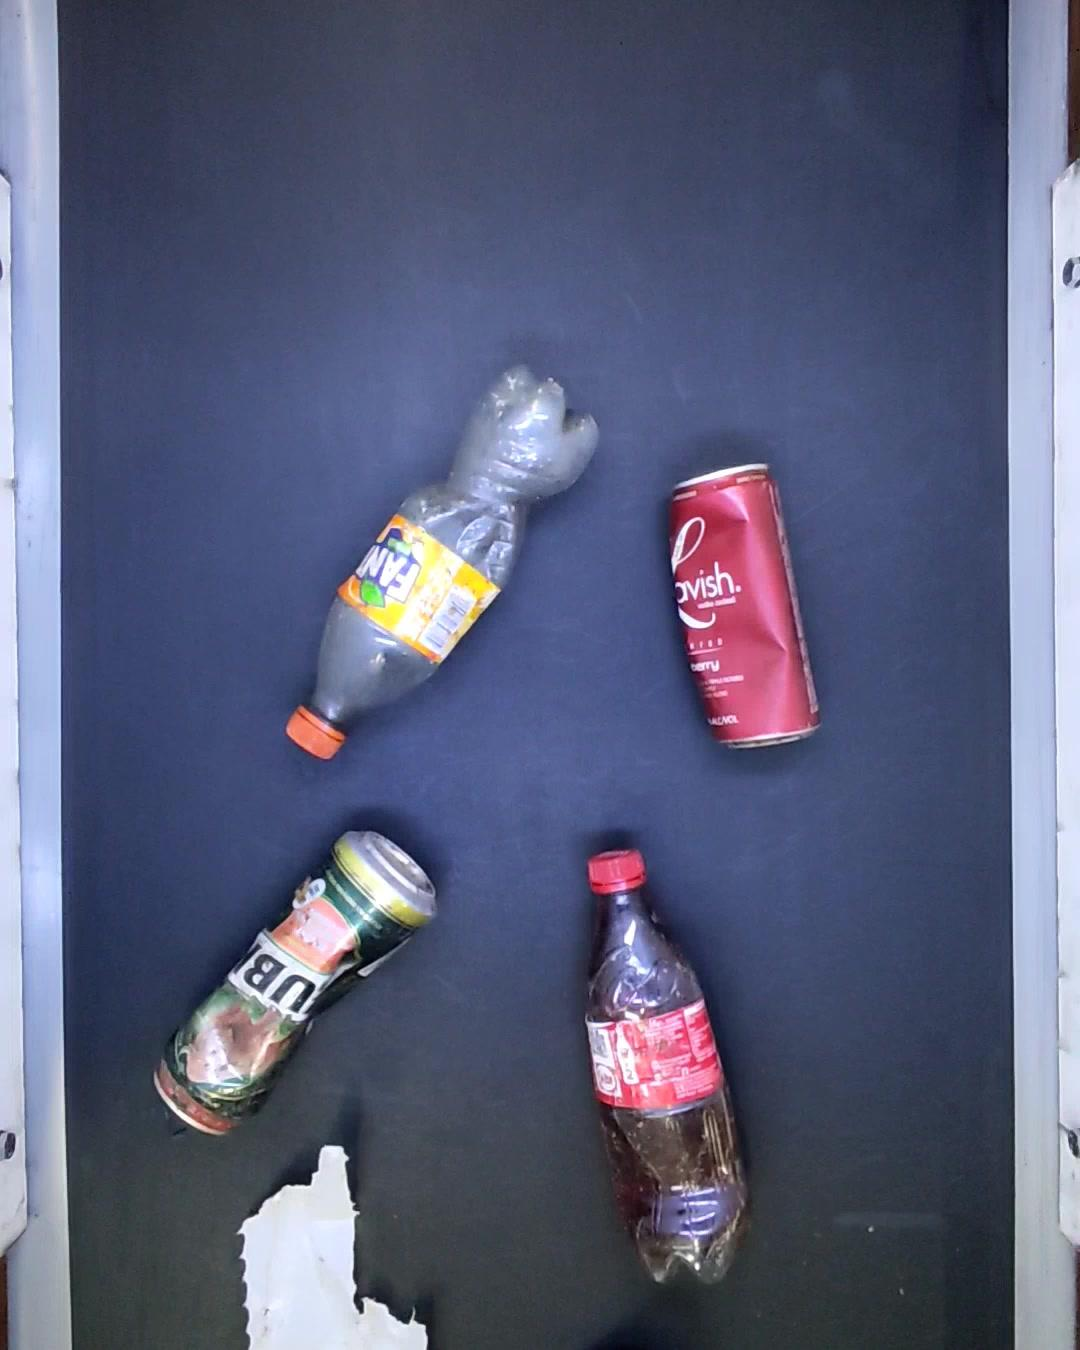Drankblikjes: (147, 820, 445, 1142), (662, 461, 825, 755)
Drankflessen - 1-2 liter: (278, 355, 608, 773), (573, 838, 756, 1289)
Plastic folies of stukken daarvan 2.5- 50 cm: (235, 1143, 433, 1350)
